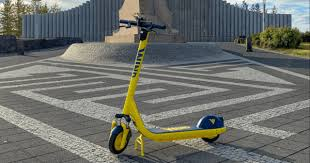kick_board: (108, 18, 226, 153)
kick_body: (149, 126, 198, 139)
kick_handler: (118, 16, 166, 34)
kick_neck: (127, 42, 146, 107)
kick_wheel: (199, 115, 223, 142), (108, 125, 130, 153)
